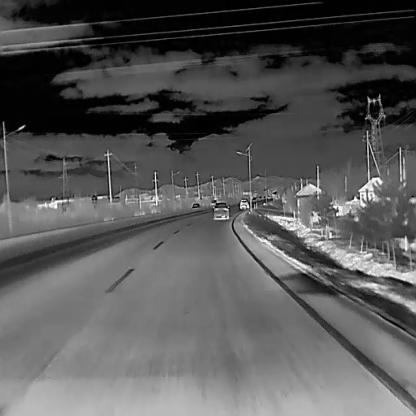car: (213, 202, 230, 220), (239, 198, 249, 209), (191, 202, 199, 209), (210, 199, 217, 206)
